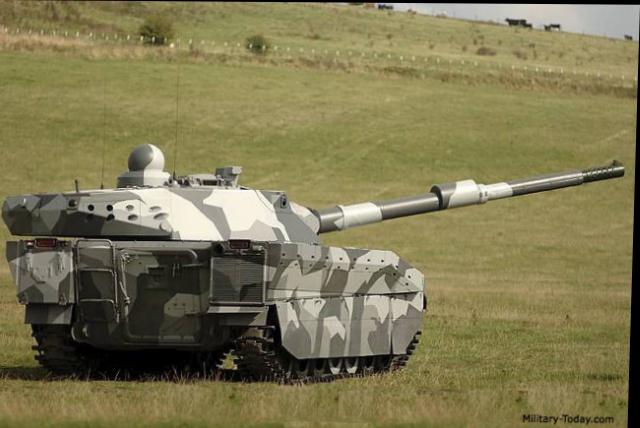tank: (0, 190, 433, 384)
